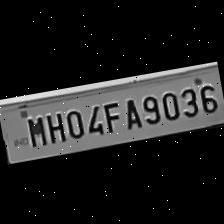0: (156, 85, 181, 121), (62, 104, 84, 140)
3: (174, 82, 200, 120)
4: (80, 99, 104, 138)
6: (192, 78, 218, 115)
9: (136, 89, 162, 126)
A: (118, 93, 142, 131)
F: (99, 96, 122, 134)
H: (41, 106, 66, 144)
M: (22, 111, 48, 148)
